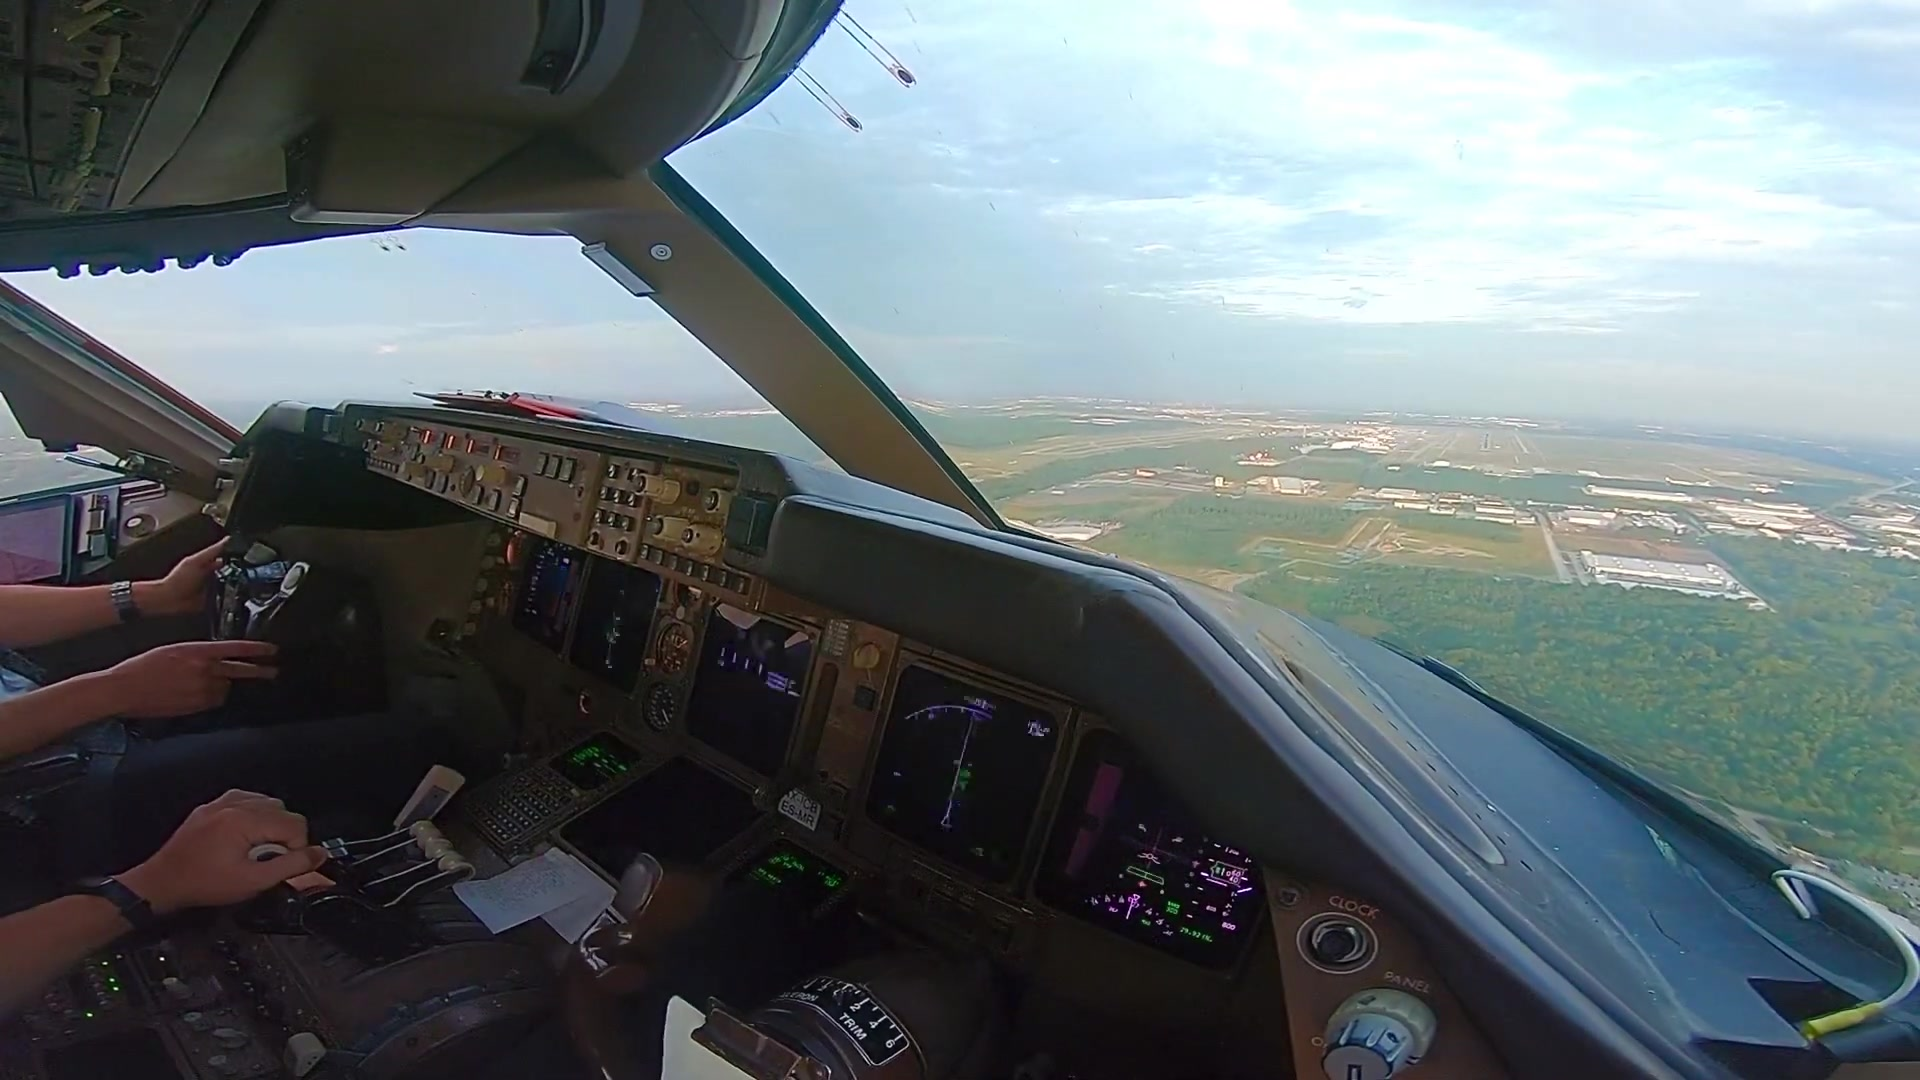runway: (1478, 429, 1495, 451)
